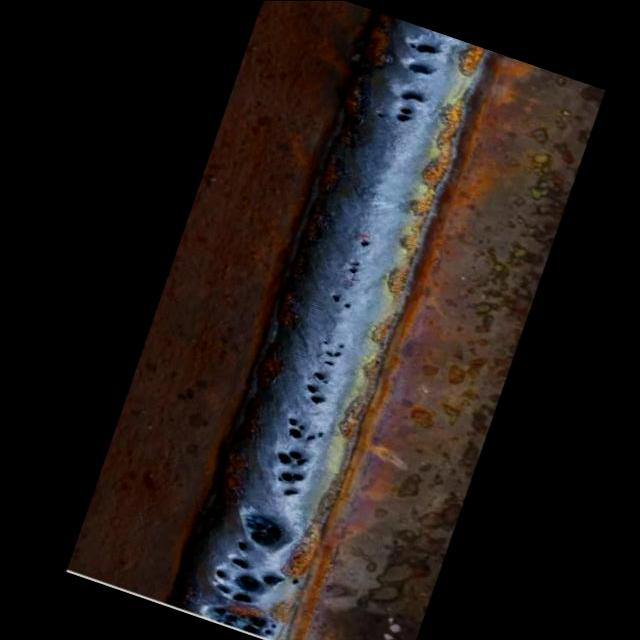defect: (208, 507, 304, 606), (209, 605, 279, 637), (374, 88, 428, 125), (285, 413, 328, 442), (303, 368, 331, 409), (321, 338, 348, 368), (272, 448, 311, 466), (406, 40, 446, 55), (404, 61, 436, 76), (275, 471, 307, 486), (332, 290, 354, 311), (345, 260, 364, 276), (283, 488, 301, 498), (359, 237, 373, 249)
